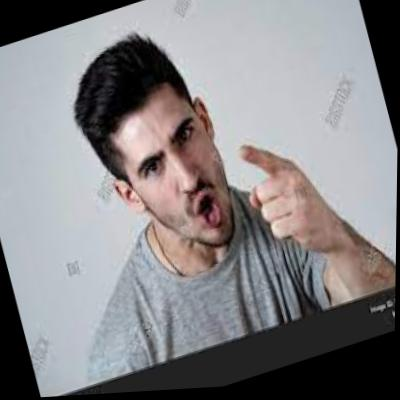angry: (85, 56, 253, 280)
